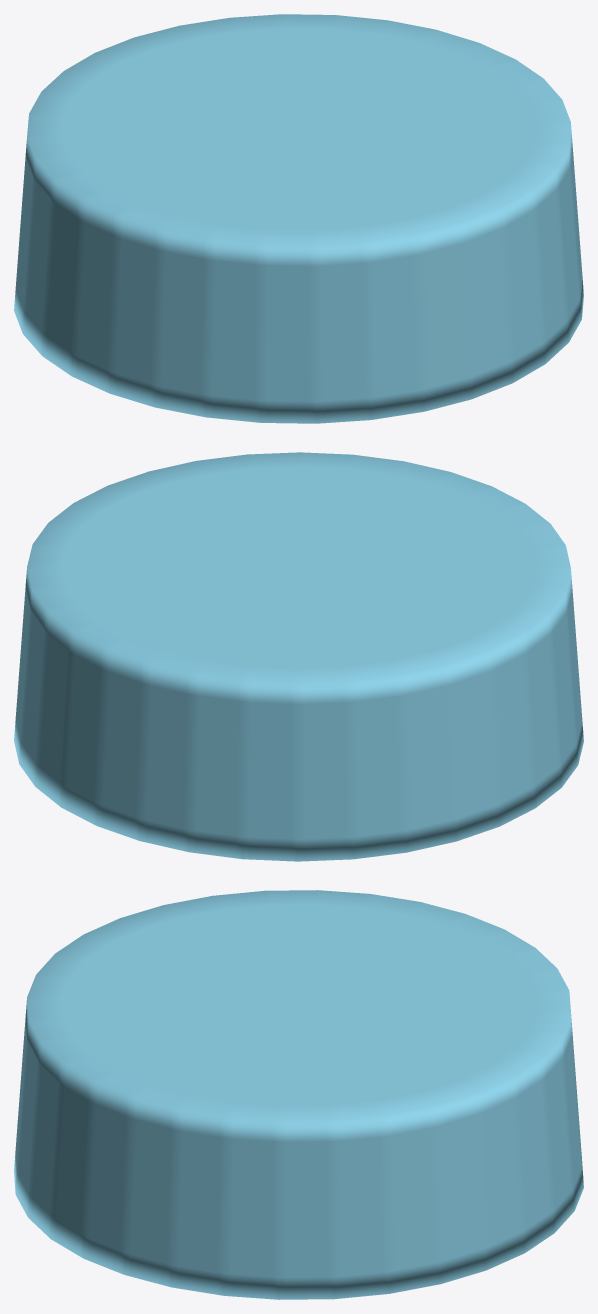
File: BSN_Water_WaterBarrel.gltf
3 views of the same model, one above another, from view 1: azimuth 30°, elevation 25°; view 2: azimuth 150°, elevation 25°; view 3: azimuth 270°, elevation 25° (orthographic).
Visible parts, largest first — view 1: WaterBarrel; view 2: WaterBarrel; view 3: WaterBarrel.
Boxes of the visible parts, bbox=[...] form: WaterBarrel: bbox=[14, 14, 583, 423]; WaterBarrel: bbox=[14, 452, 583, 861]; WaterBarrel: bbox=[14, 890, 583, 1299].
Size of the model in its own units: 4.12 by 1.39 by 4.12.
